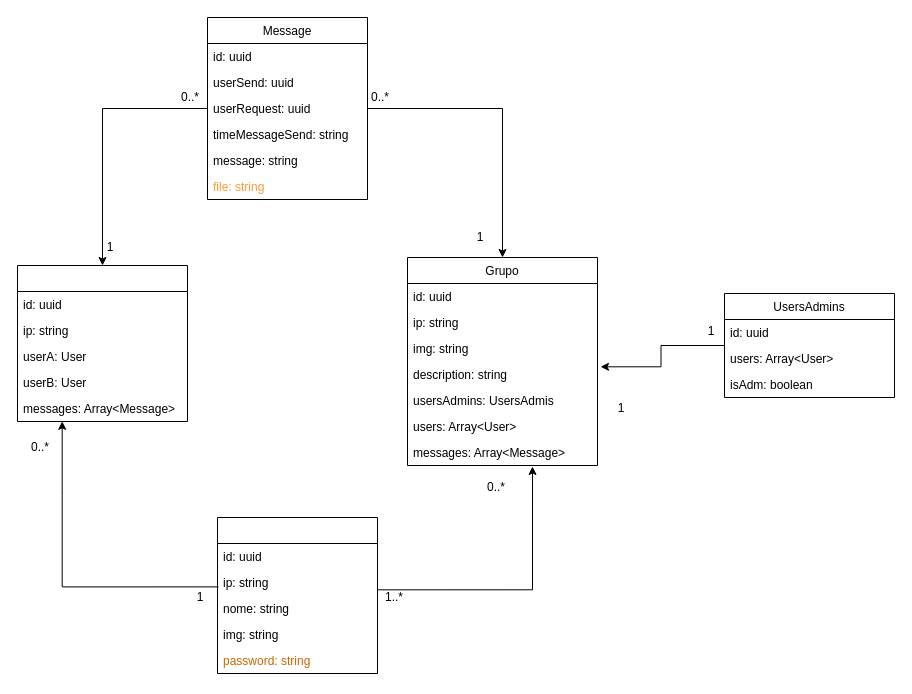
The diagram is 912 pixels wide and 694 high, and some of its shapes have lost their labels. The shapes that lost their labels are listed below. From the top down, each one's box as (x1, y1, x2, y2) in pixels, then its label:
(16, 264, 188, 422): ChatPrivado
(216, 516, 378, 674): User
